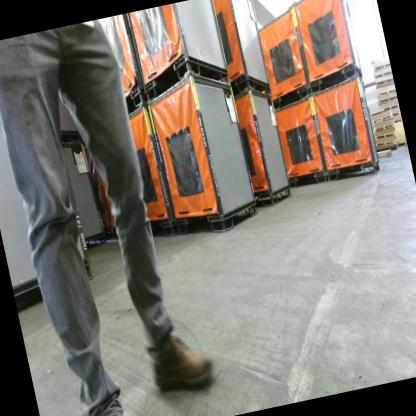pallet: (372, 121, 395, 133), (375, 145, 393, 159), (377, 94, 398, 104), (373, 131, 396, 140), (374, 138, 397, 147), (377, 87, 396, 97), (372, 113, 393, 122), (382, 101, 399, 112), (374, 70, 392, 79), (375, 76, 393, 84), (372, 63, 390, 70), (392, 118, 402, 125), (392, 111, 400, 119)
